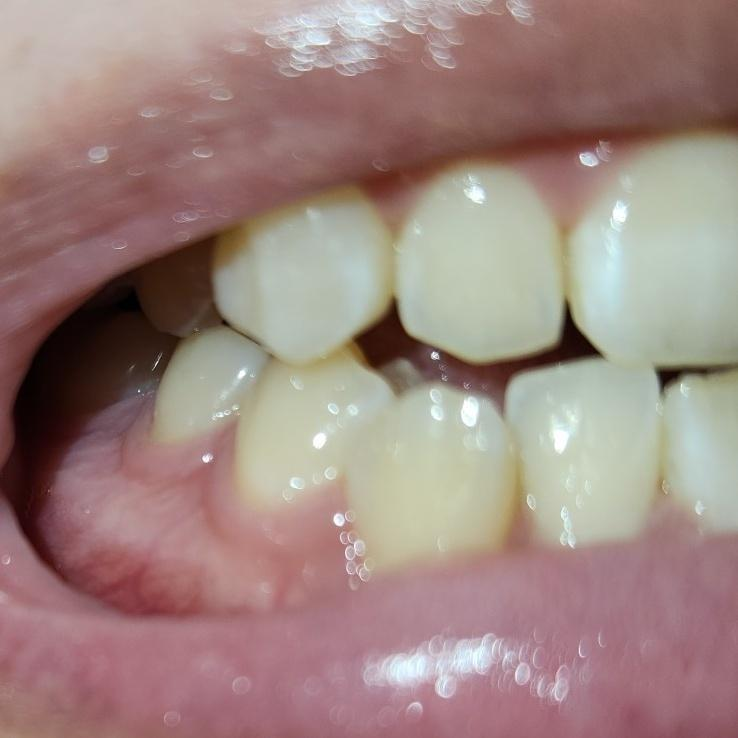Crowding: (396, 356, 655, 571)
